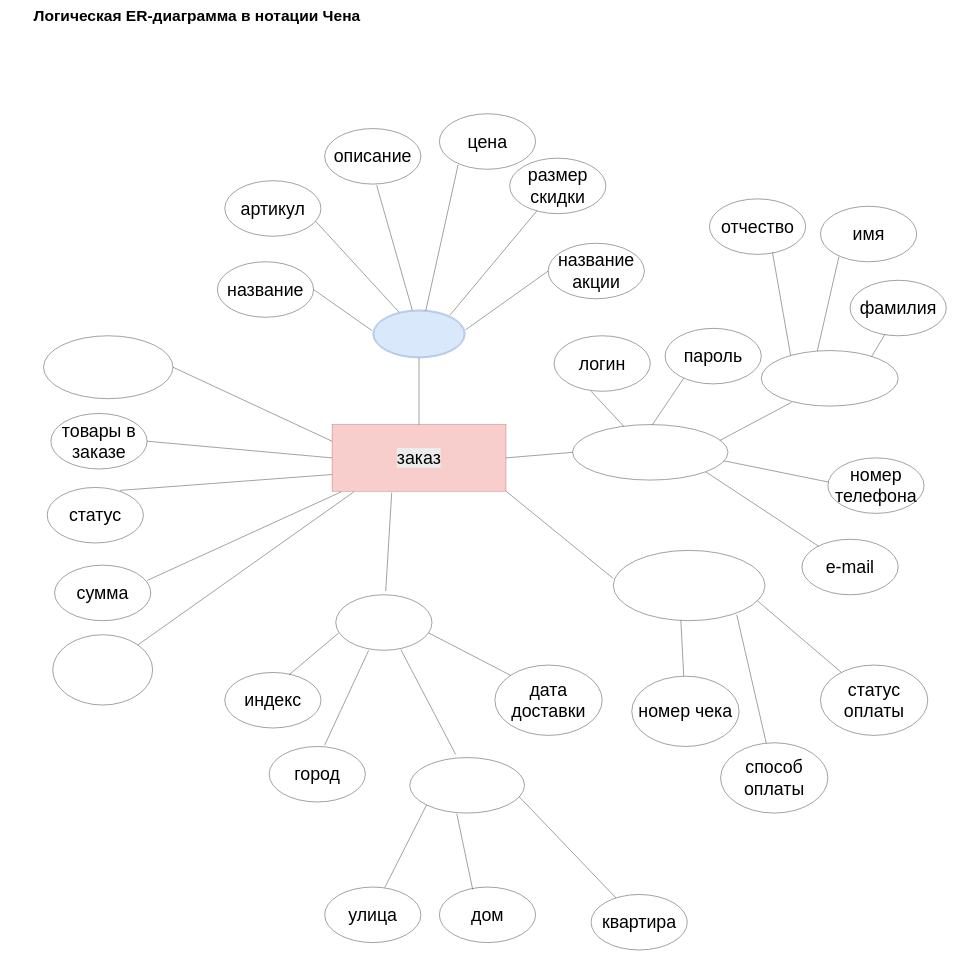
Image size: 953x956. Some labels were removed from this diagram. The centre of each missing label's shape, as x and y in pixels:
"адрес" belongs at [466,785].
"данные о доставке" belongs at [383,622].
"данные об оплате" belongs at [689,585].
"дата создания заказа" belongs at [102,669].
"номер заказа" belongs at [108,367].
"пользователь" belongs at [650,452].
"товар" belongs at [418,334].
"ФИО" belongs at [829,378].
